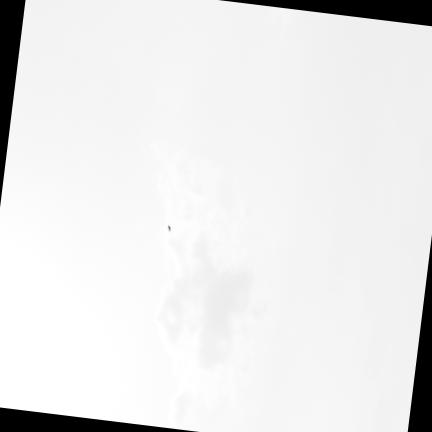Shahed: (167, 224, 170, 231)
